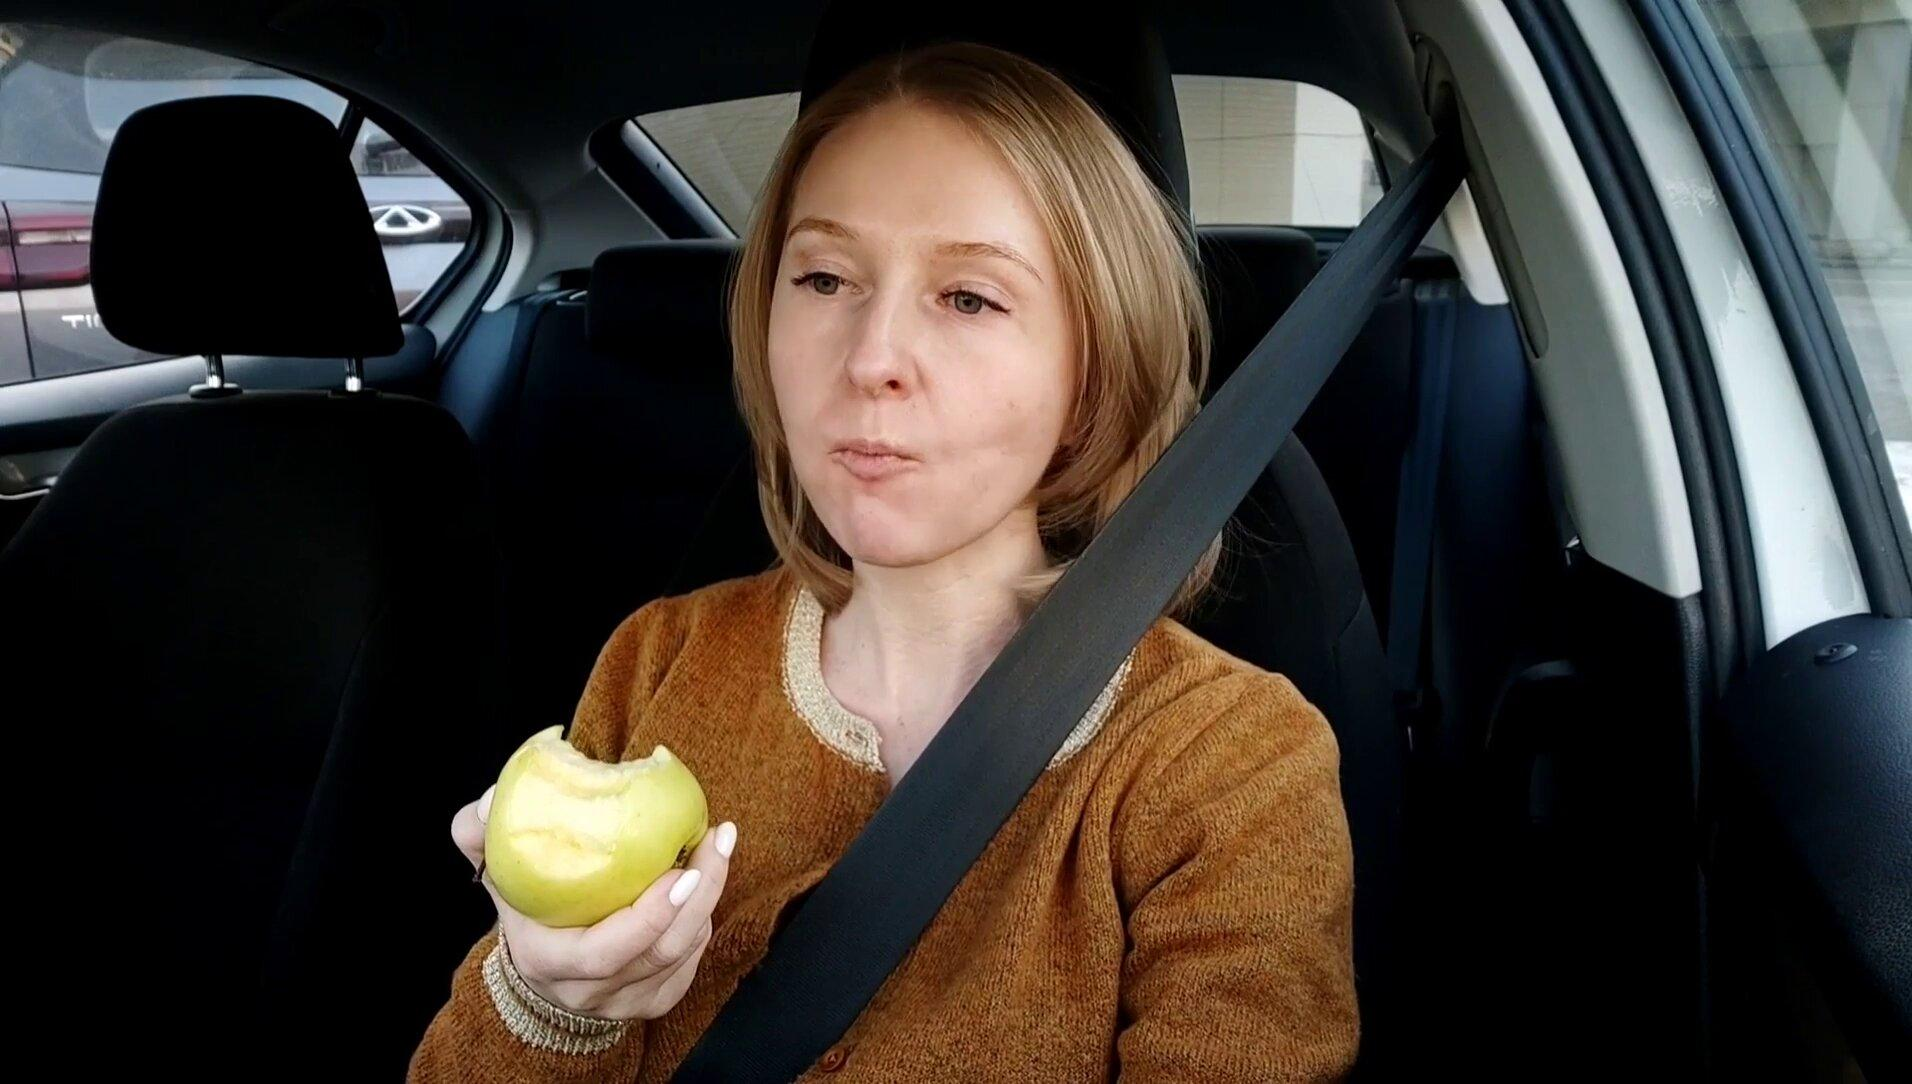Eating: (481, 716, 716, 937)
